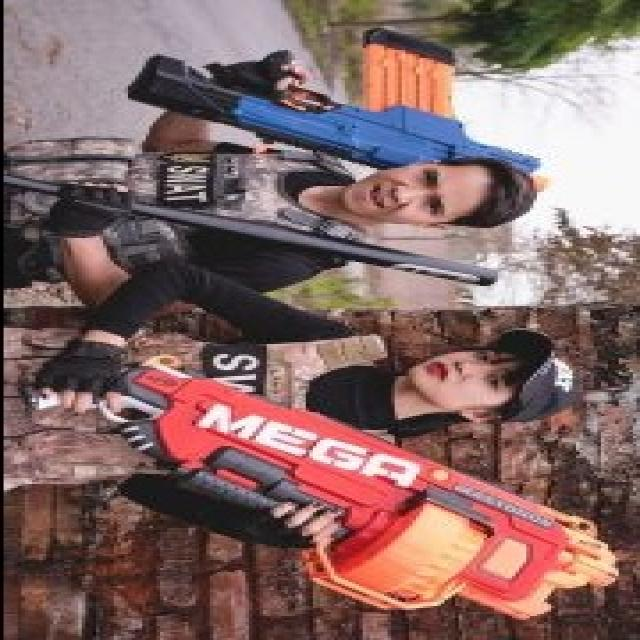Nerf gun: (66, 354, 617, 622), (119, 26, 564, 214)
